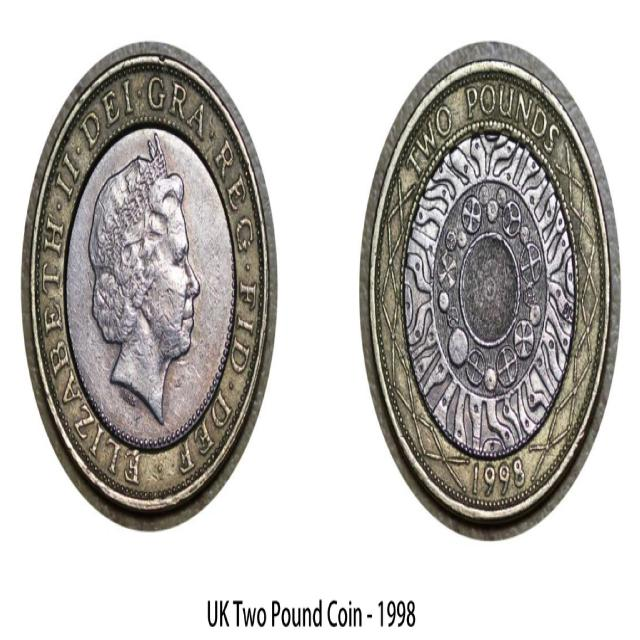Coin: (358, 40, 618, 538), (20, 37, 278, 536)
